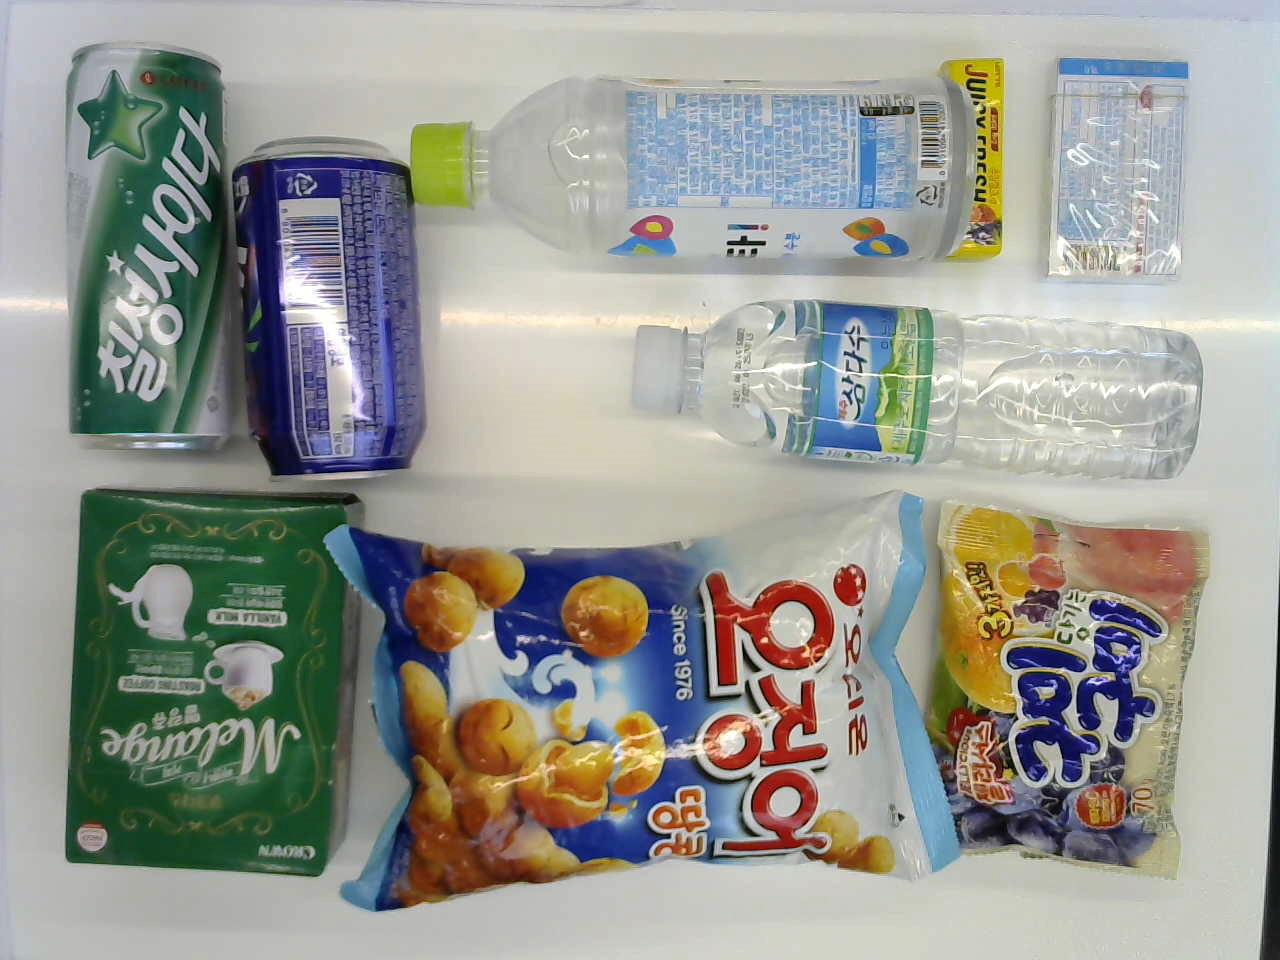ID_gum: (1039, 55, 1197, 293)
cidar: (54, 41, 229, 460)
couque_coffee: (68, 474, 371, 886)
gumi_gumi: (930, 482, 1198, 885)
juicyfresh: (936, 51, 1028, 264)
samdasu: (617, 292, 1201, 484)
squid_peanut: (354, 494, 954, 911)
toreta: (409, 69, 963, 273)
welchs: (238, 130, 420, 484)
